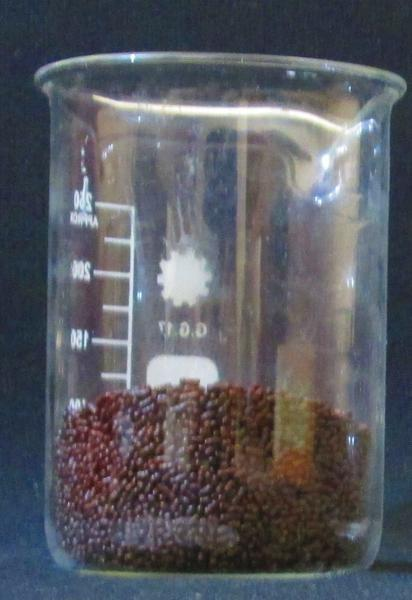Beaker: (26, 40, 407, 581)
